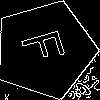F: (20, 24, 75, 67)
